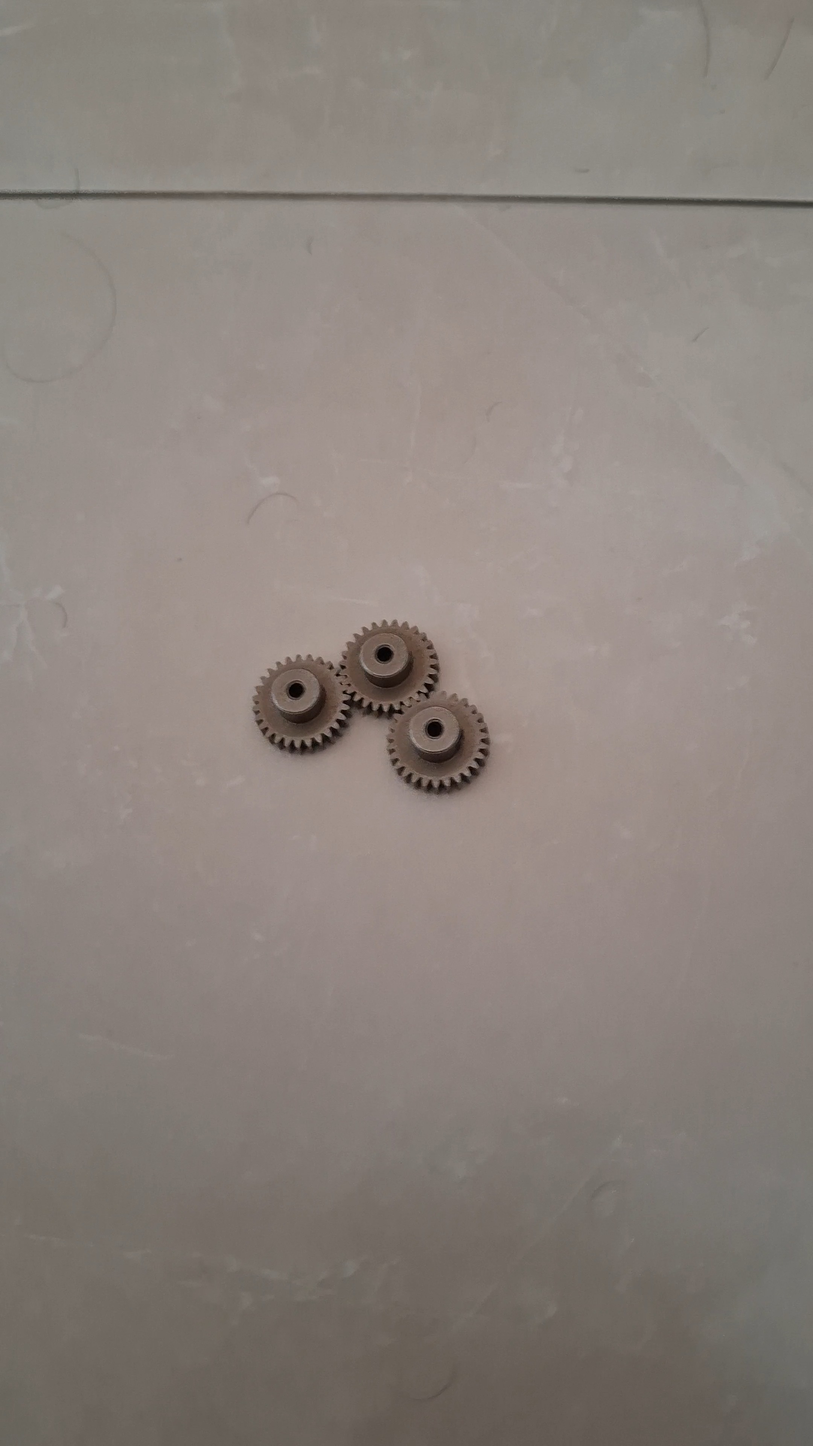spur gear: (387, 694, 489, 792), (253, 655, 349, 752), (340, 622, 439, 715)
